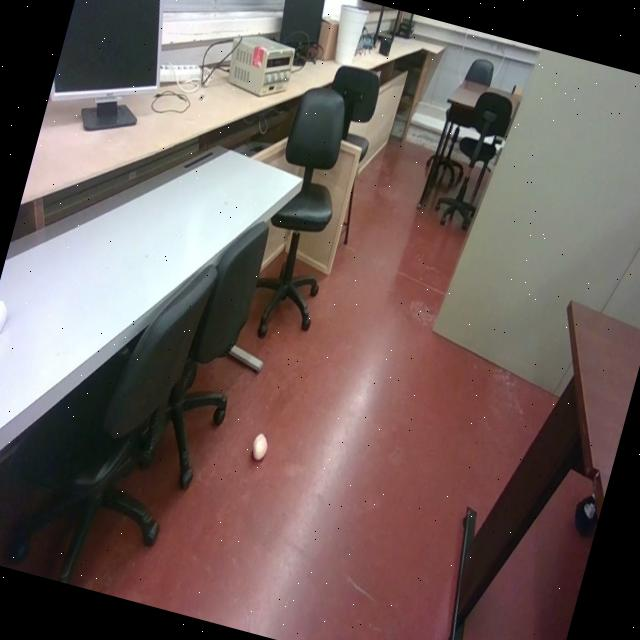peach: (252, 433, 267, 459)
